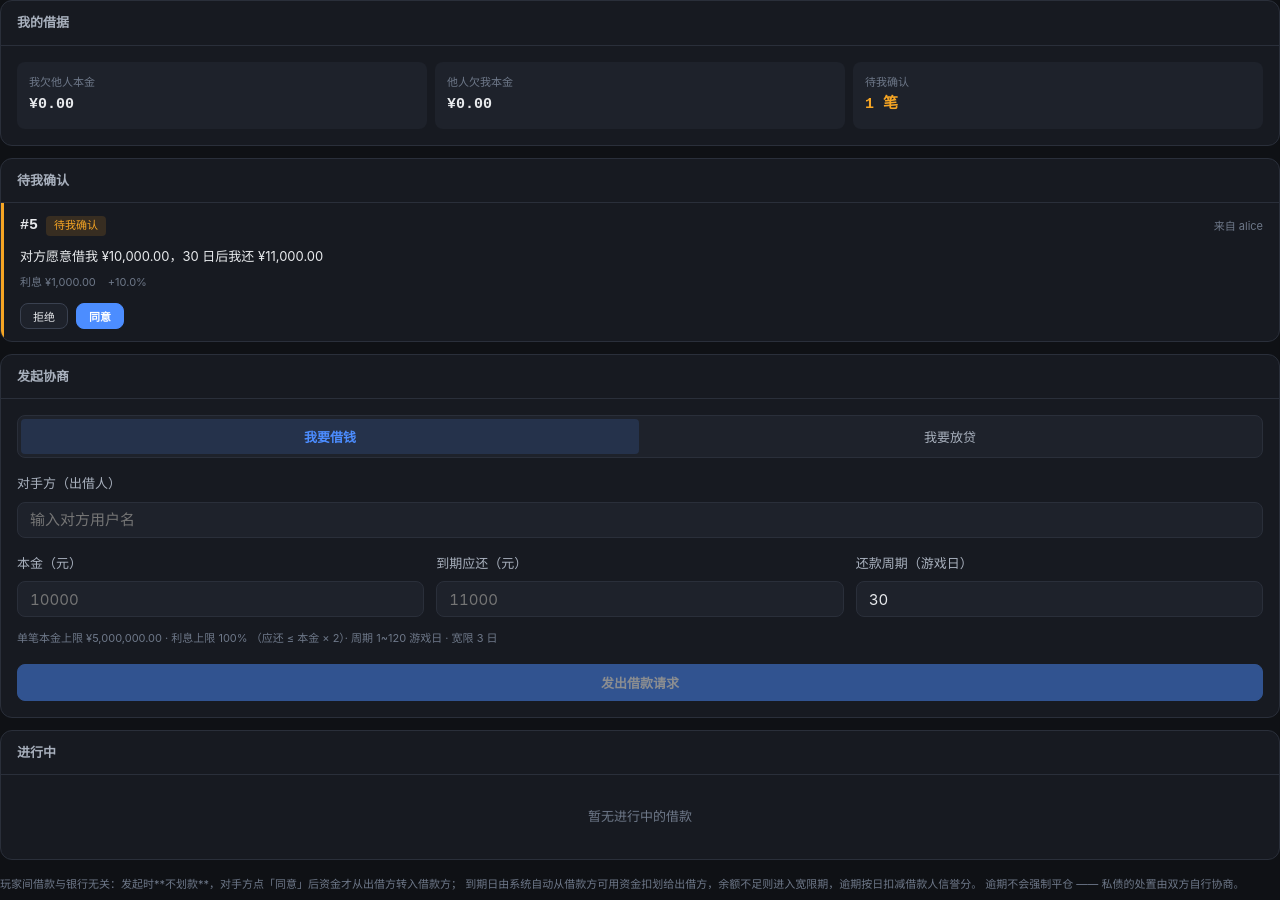
it: P2p 待我确认的文案 › 点「同意」发 accept 请求并提示已划转
Step 1. Click the button with test id "p2p-accept" → (100, 316), box left=76, top=303, right=124, bottom=329
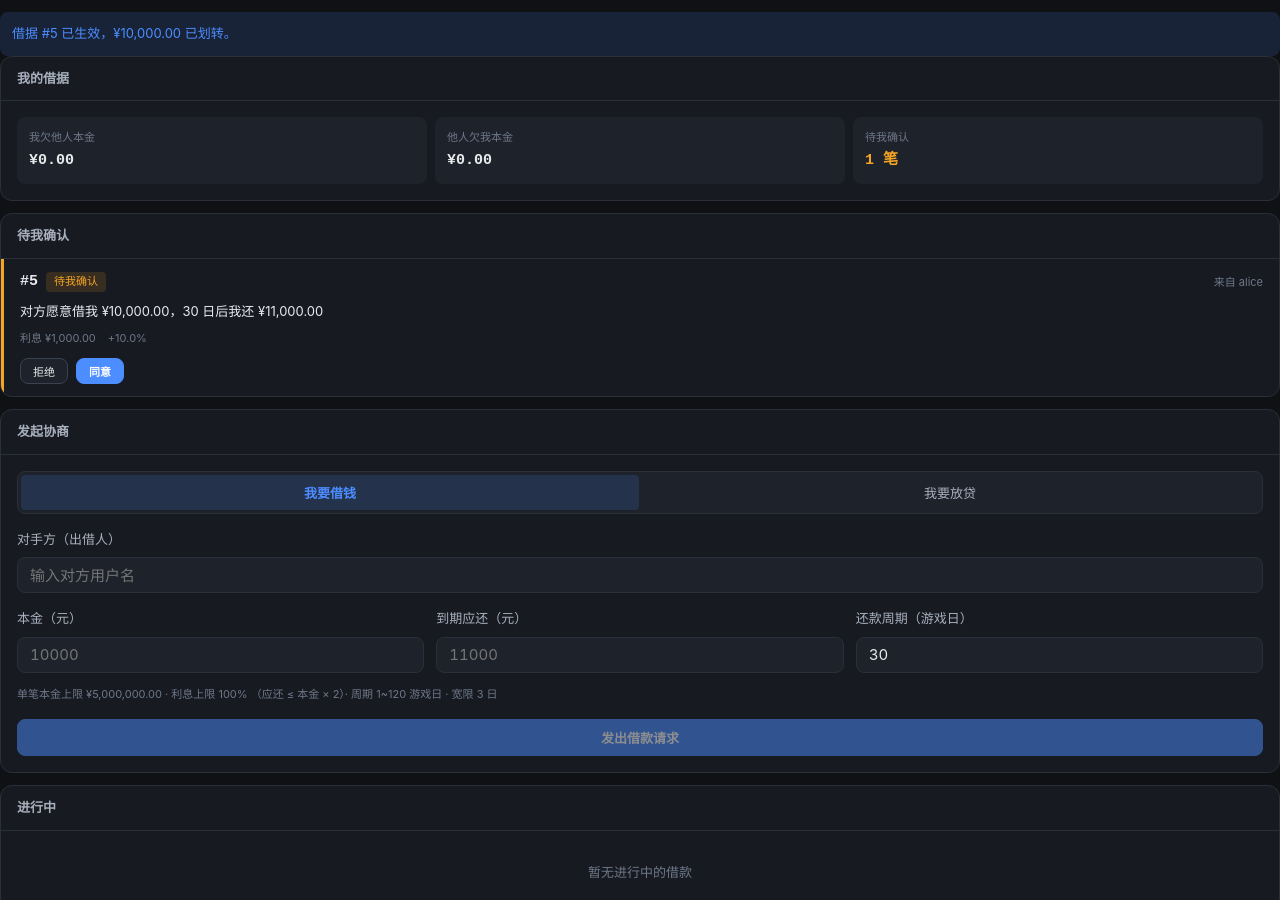
Expected: the message shows "已生效", left=12, top=25, right=237, bottom=41
